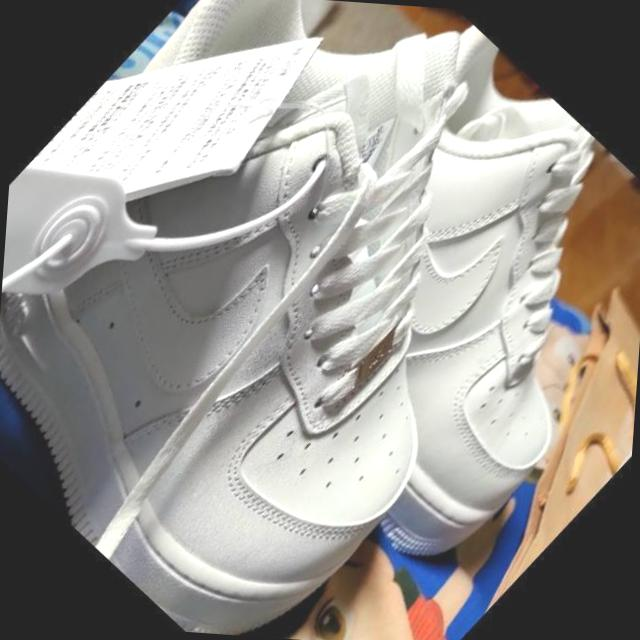nike_fake_airforce: (0, 0, 640, 640), (159, 2, 640, 589)
